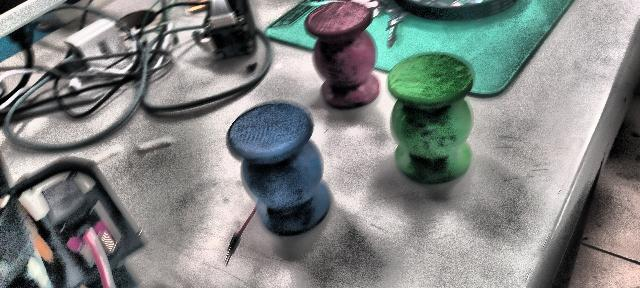blue: (227, 101, 331, 236)
green: (387, 51, 475, 184)
red: (300, 0, 384, 108)
